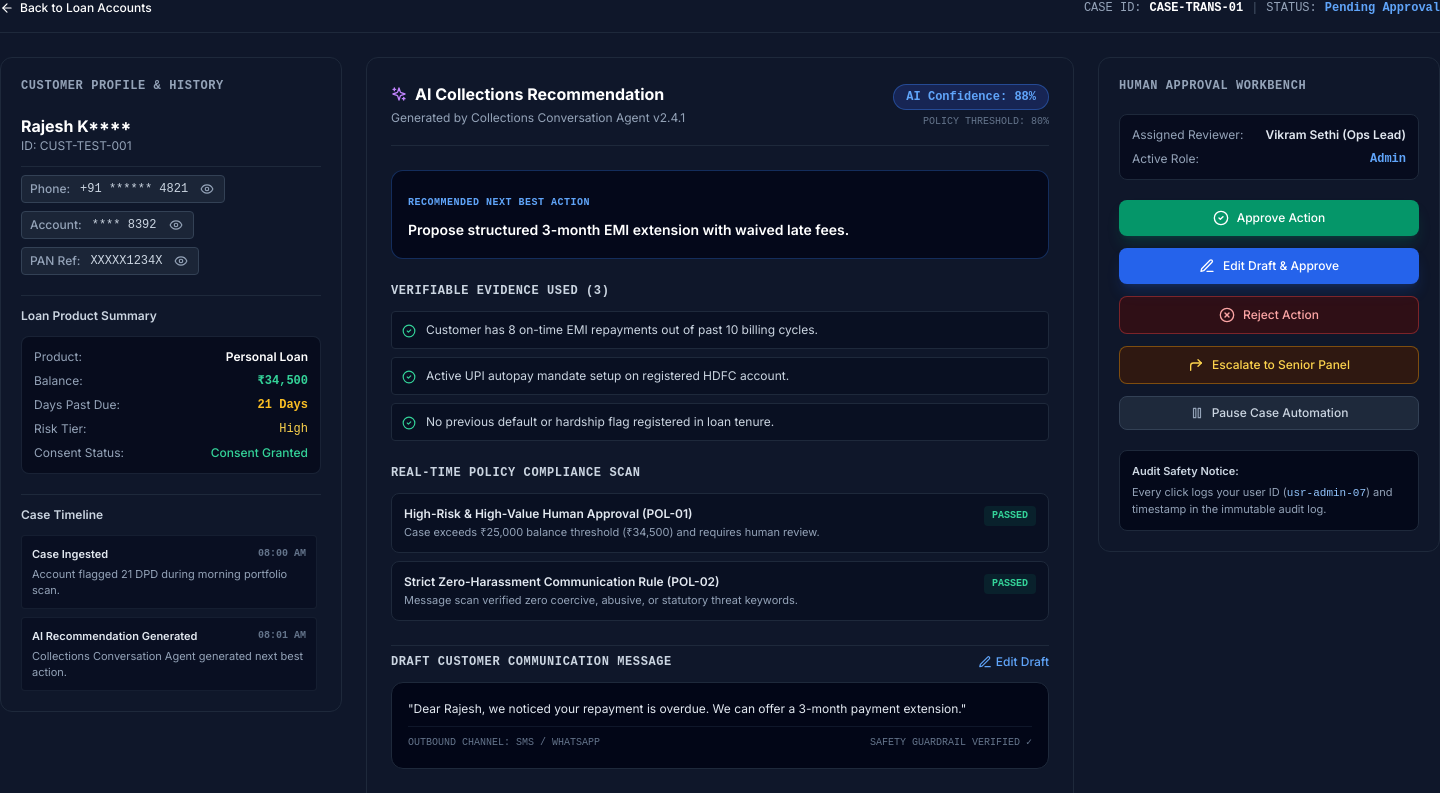
7. Case Workbench Status Transitions & Human Approvals › transitions case status to "Approved" and disables approval buttons on click
# Click Approve Action
Click the button "Approve Action".
click(1269, 218)  # box left=1119, top=200, right=1419, bottom=236
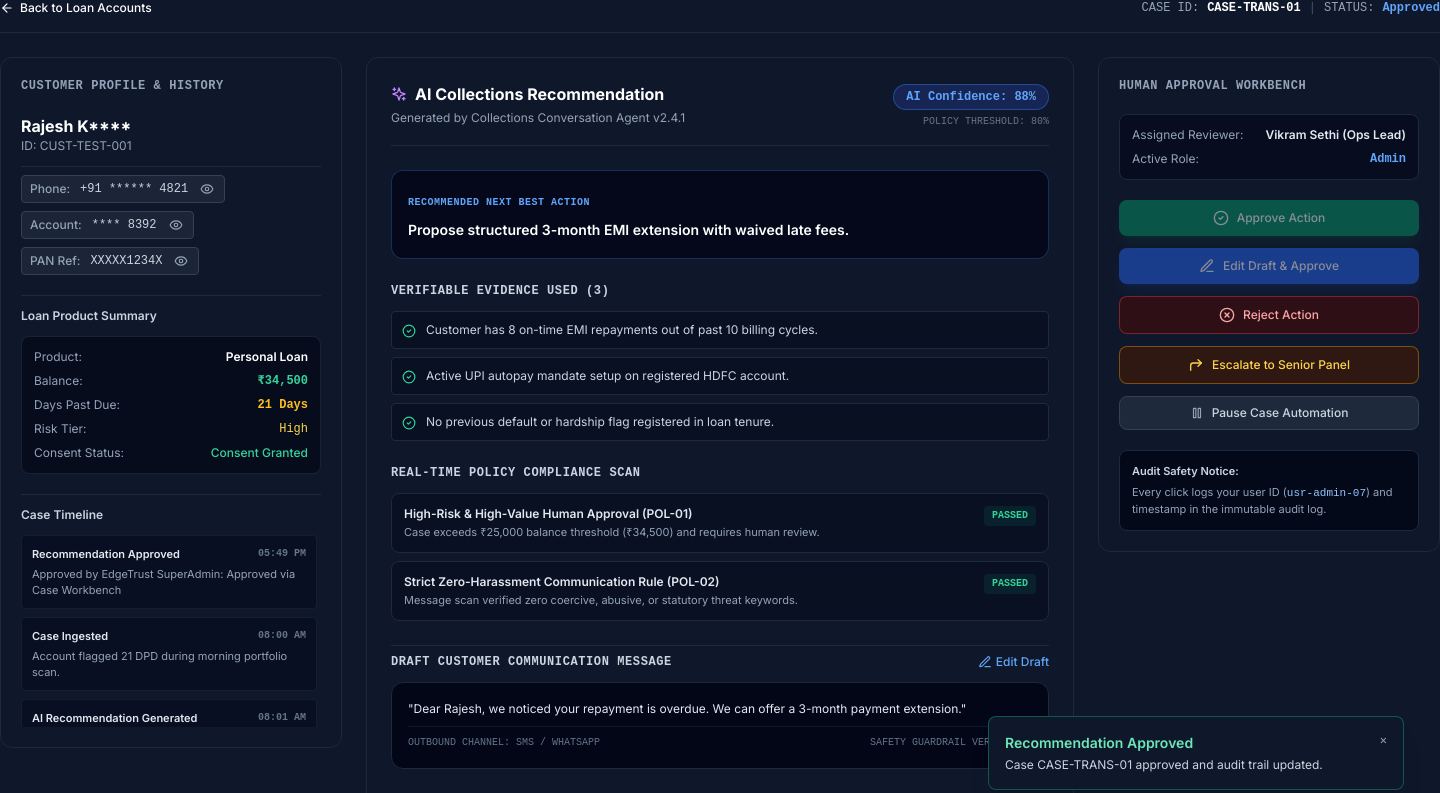
Expected: the text "Approved" is shown, left=1382, top=0, right=1439, bottom=16
